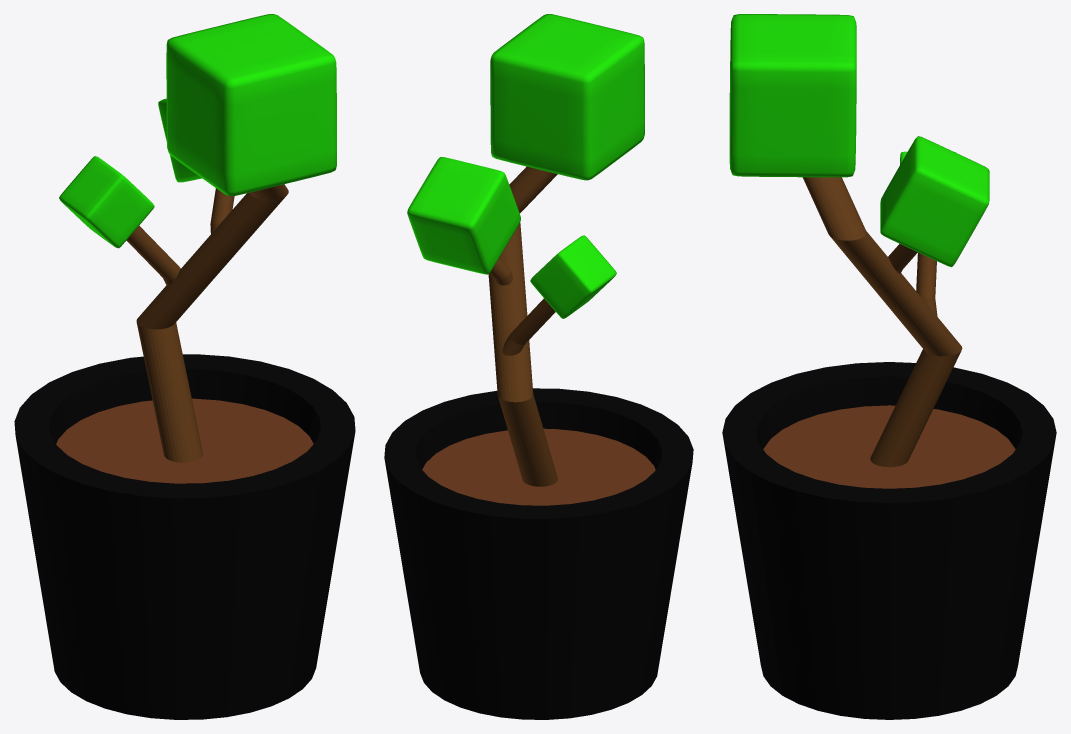
File: pot.glb
The picture shows the model from 3 angles, left to right: view 1: azimuth 30°, elevation 25°; view 2: azimuth 150°, elevation 25°; view 3: azimuth 270°, elevation 25°; orthographic projection. The views are drawn at different scales.
Visible parts, largest first — view 1: 큐브.002; view 2: 큐브.002; view 3: 큐브.002.
Part boxes in pixels (x1,y1,x2,y2): 큐브.002: (14, 14, 355, 719); 큐브.002: (384, 14, 693, 719); 큐브.002: (722, 14, 1056, 719).
Size of the model in its own units: 2.6 by 5.46 by 2.6.
